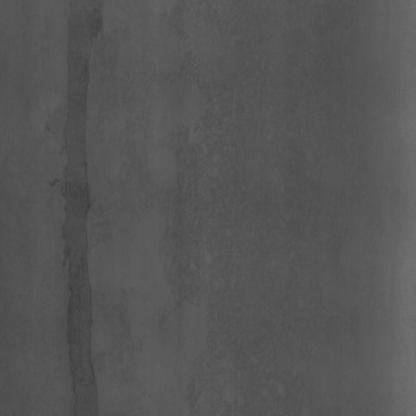water_spot: (50, 12, 108, 416)
